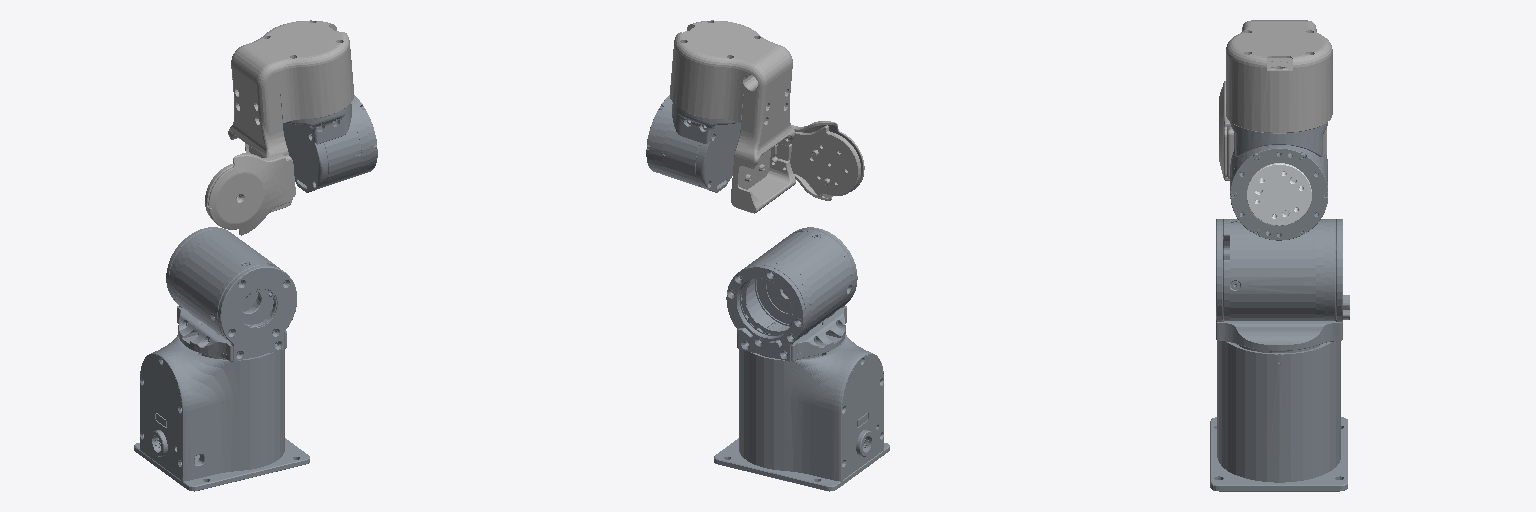
The robot description file, URDF, robot "piper_x_description":
<?xml version="1.0" encoding="utf-8"?>
<!-- This URDF was automatically created by SolidWorks to URDF Exporter! Originally created by Stephen Brawner (brawner@gmail.com) 
     Commit Version: 1.6.0-4-g7f85cfe  Build Version: 1.6.7995.38578
     For more information, please see http://wiki.ros.org/sw_urdf_exporter -->
<robot
  name="piper_x_description">
  <link
    name="base_link">
  <inertial>
    <origin xyz="-0.00347 -0.00012 0.04283" rpy="0 0 0"/>
    <mass value="1.07"/>
    <inertia
      ixx="0.00298745"
      ixy="0.00000369"
      ixz="0.00016646"
      iyy="0.00312688"
      iyz="0.00000832"
      izz="0.00093042"/>
  </inertial>
    <visual>
      <origin
        xyz="0 0 0"
        rpy="0 0 0" />
      <geometry>
        <mesh
          filename="package://piper_x_description/meshes/dae/base_link.dae" />
      </geometry>
      <material
        name="">
        <color
          rgba="0.59216 0.61961 0.65098 1" />
      </material>
    </visual>
    <collision>
      <origin
        xyz="0 0 0"
        rpy="0 0 0" />
      <geometry>
        <mesh
          filename="package://piper_x_description/meshes/dae/base_link.dae" />
      </geometry>
    </collision>
  </link>
  <link
    name="link1">
    <inertial>
      <origin xyz="0.00065 0.00006 -0.00325" rpy="0 0 0"/>
      <mass
        value="0.71" />
      <inertia
        ixx="0.00051254"
        ixy="0.00000294"
        ixz="0.00001039"
        iyy="0.00041089"
        iyz="0.00000240"
        izz="0.00045962"/>
    </inertial>
    <visual>
      <origin
        xyz="0 0 0"
        rpy="0 0 0" />
      <geometry>
        <mesh
          filename="package://piper_x_description/meshes/dae/J1.dae" />
      </geometry>
      <material
        name="">
        <color
          rgba="0.59216 0.61961 0.65098 1" />
      </material>
    </visual>
    <collision>
      <origin
        xyz="0 0 0"
        rpy="0 0 0" />
      <geometry>
        <mesh
          filename="package://piper_x_description/meshes/dae/J1.dae" />
      </geometry>
    </collision>
  </link>
  <joint
    name="joint1"
    type="revolute">
    <origin
      xyz="0 0 0.123"
      rpy="0 0 0" />
    <parent
      link="base_link" />
    <child
      link="link1" />
    <axis
      xyz="0 0 1" />
    <limit
      lower="-2.618"
      upper="2.618"
      effort="100"
      velocity="10" />
  </joint>
  <link
    name="link2">
    <inertial>
      <origin xyz="0.21854 -0.00853 0.00234" rpy="0 0 0"/>
      <mass value="1.16"/>
      <inertia
        ixx="0.00109788"
        ixy="0.00180610"
        ixz="0.00055040"
        iyy="0.06763354"
        iyz="0.00000813"
        izz="0.06762540"/>
    </inertial>
    <visual>
      <origin
        xyz="0 0 0"
        rpy="0 0 0" />
      <geometry>
        <mesh
          filename="package://piper_x_description/meshes/dae/J2.dae" />
      </geometry>
    </visual>
    <collision>
      <origin
        xyz="0 0 0"
        rpy="0 0 0" />
      <geometry>
        <mesh
          filename="package://piper_x_description/meshes/dae/J2.dae" />
      </geometry>
    </collision>
  </link>
  <joint
    name="joint2"
    type="revolute">
    <origin
      xyz="0 0 0"
      rpy="1.5708 -0.13586 3.1416" />
    <parent
      link="link1" />
    <child
      link="link2" />
    <axis
      xyz="0 0 1" />
    <limit
      lower="0"
      upper="3.14"
      effort="100"
      velocity="10" />
  </joint>
  <link
    name="link3">
    <inertial>
      <origin xyz="0.20190 -0.00415 -0.00114" rpy="0 0 0"/>
      <mass value="0.67"/>
      <inertia
        ixx="0.00033471"
        ixy="0.00026891"
        ixz="0.00013918"
        iyy="0.03360411"
        iyz="0.00000052"
        izz="0.03356941"/>
    </inertial>
    <visual>
      <origin
        xyz="0 0 0"
        rpy="0 0 0" />
      <geometry>
        <mesh
          filename="package://piper_x_description/meshes/dae/J3.dae" />
      </geometry>
      <material
        name="">
        <color
          rgba="0.59216 0.61961 0.65098 1" />
      </material>
    </visual>
    <collision>
      <origin
        xyz="0 0 0"
        rpy="0 0 0" />
      <geometry>
        <mesh
          filename="package://piper_x_description/meshes/dae/J3.dae" />
      </geometry>
    </collision>
  </link>
  <joint
    name="joint3"
    type="revolute">
    <origin
      xyz="0.28503 0 0"
      rpy="0 0 2.8377" />
    <parent
      link="link2" />
    <child
      link="link3" />
    <axis
      xyz="0 0 1" />
    <limit
      lower="-2.9671"
      upper="0"
      effort="100"
      velocity="10" />
  </joint>
  <link
    name="link4">
    <inertial>
      <origin xyz="0.06593 -0.04751 -0.00274" rpy="0 0 0"/>
      <mass value="0.4"/>
      <inertia
        ixx="0.00120173"
        ixy="0.00138165"
        ixz="0.00001187"
        iyy="0.00209324"
        iyz="0.00000217"
        izz="0.00307814"/>
    </inertial>
    <visual>
      <origin
        xyz="0 0 0"
        rpy="0 0 0" />
      <geometry>
        <mesh
          filename="package://piper_x_description/meshes/dae/J4.dae" />
      </geometry>
      <material
        name="">
        <color
          rgba="0.69804 0.69804 0.69804 0.875" />
      </material>
    </visual>
    <collision>
      <origin
        xyz="0 0 0"
        rpy="0 0 0" />
      <geometry>
        <mesh
          filename="package://piper_x_description/meshes/dae/J4.dae" />
      </geometry>
    </collision>
  </link>
  <joint
    name="joint4"
    type="revolute">
    <origin
      xyz="0.27264 0 0"
      rpy="0 0 0.075129" />
    <parent
      link="link3" />
    <child
      link="link4" />
    <axis
      xyz="0 0 1" />
    <limit
      lower="-1.57"
      upper="1.57"
      effort="100"
      velocity="10" />
  </joint>
  <link
    name="link5">
    <inertial>
      <origin xyz="0.00005 0.0 -0.00417" rpy="0 0 0"/>
      <mass value="0.35"/>
      <inertia
        ixx="0.00022660"
        ixy="0.00000019"
        ixz="0.00000005"
        iyy="0.00017740"
        iyz="0.00000085"
        izz="0.00019425"/>
    </inertial>
    <visual>
      <origin
        xyz="0 0 0"
        rpy="0 0 0" />
      <geometry>
        <mesh
          filename="package://piper_x_description/meshes/dae/J5.dae" />
      </geometry>
      <material
        name="">
        <color
          rgba="0.59216 0.61961 0.65098 1" />
      </material>
    </visual>
    <collision>
      <origin
        xyz="0 0 0"
        rpy="0 0 0" />
      <geometry>
        <mesh
          filename="package://piper_x_description/meshes/dae/J5.dae" />
      </geometry>
    </collision>
  </link>
  <joint
    name="joint5"
    type="revolute">
    <origin
      xyz="0.076857 0.00062395 0"
      rpy="-1.5708 0 0" />
    <parent
      link="link4" />
    <child
      link="link5" />
    <axis
      xyz="0 0 1" />
    <limit
      lower="-1.57"
      upper="1.57"
      effort="100"
      velocity="10" />
  </joint>
  <link
    name="link6">
    <inertial>
      <origin xyz="0 0 -0.00351" rpy="0 0 0"/>
      <mass value="0.007"/>
      <inertia
        ixx="0.00000064"
        ixy="0"
        ixz="0"
        iyy="0.00000064"
        iyz="0"
        izz="0.00000106"/>
    </inertial>
    <visual>
      <origin
        xyz="0 0 -0.035"
        rpy="0 0 0" />
      <geometry>
        <mesh
          filename="package://piper_x_description/meshes/Link6.STL" />
      </geometry>
      <material
        name="">
        <color
          rgba="0.898039215686275 0.917647058823529 0.929411764705882 1" />
      </material>
    </visual>
    <collision>
      <origin
        xyz="0 0 -0.035"
        rpy="0 0 0" />
      <geometry>
        <mesh
          filename="package://piper_x_description/meshes/Link6.STL" />
      </geometry>
    </collision>
  </link>
  <joint
    name="joint6"
    type="revolute">
    <origin
      xyz="0.035 0 0"
      rpy="1.5708 0 1.5708" />
    <parent
      link="link5" />
    <child
      link="link6" />
    <axis
      xyz="0 0 1" />
    <limit
      lower="-3.14"
      upper="3.14"
      effort="100"
      velocity="10" />
    </joint>

</robot>

--- Facts derived from the render (not from the file) ---
Views: 3 orthographic renders of the robot side by side, from view 1: azimuth 30°, elevation 25°; view 2: azimuth 150°, elevation 25°; view 3: azimuth 270°, elevation 25°.
Robot: piper_x_description — 7 links, 6 joints (6 revolute); root link base_link; default pose: all joints at 0.
Links seen in each view (by area): view 1: base_link, link4, link1, link5; view 2: link4, base_link, link1, link5; view 3: base_link, link1, link4, link5, link6.
Boxes of the visible links, x1,y1,x2,y2 form: base_link: (134, 334, 309, 491); link4: (205, 20, 353, 235); link1: (166, 227, 296, 361); link5: (283, 95, 377, 192); link4: (670, 20, 864, 213); base_link: (714, 334, 889, 491); link1: (726, 227, 857, 361); link5: (646, 95, 740, 192); base_link: (1210, 341, 1347, 491); link1: (1216, 219, 1349, 352); link4: (1219, 20, 1332, 180); link5: (1230, 122, 1327, 240); link6: (1247, 163, 1311, 225).
Bounding box of the posed robot: 0.158 × 0.0808 × 0.2973 m (x, y, z).
Meshes: 7 distinct files referenced, 5 mesh visuals loaded (1 binary STL, 4 Collada DAE); not drawn: 2 (reference not matched to a file when rendering).
